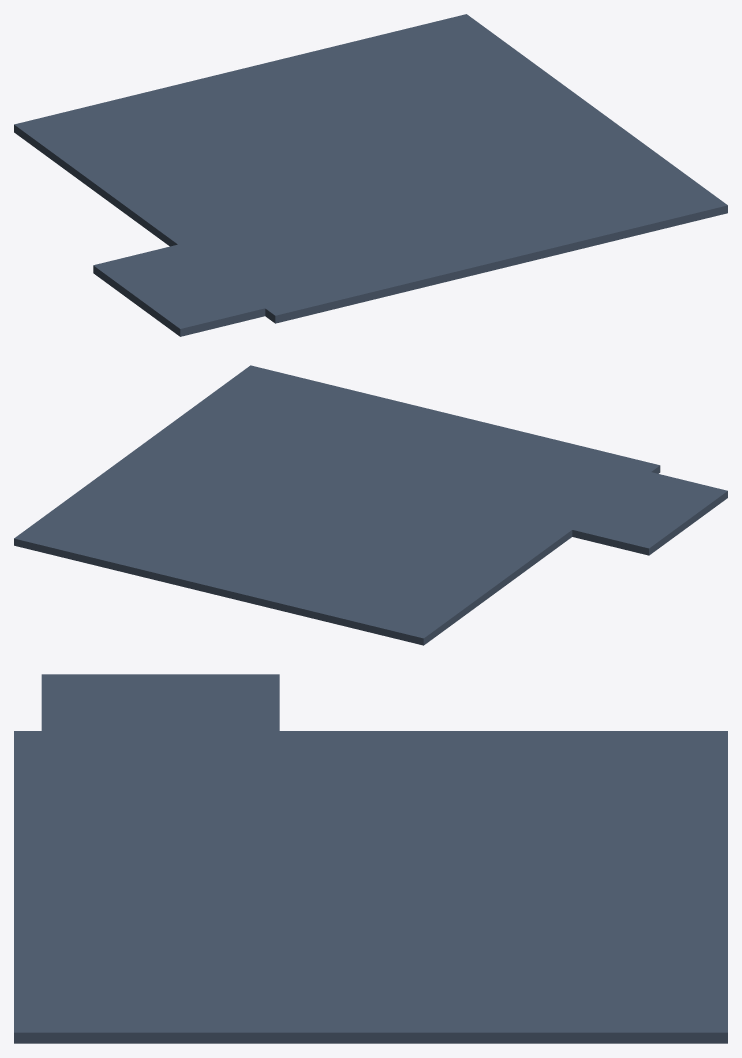
The model's file is floor_geometry.obj.
The picture shows the model from 3 angles, top to bottom: view 1: azimuth 30°, elevation 25°; view 2: azimuth 150°, elevation 25°; view 3: azimuth 270°, elevation 25°; orthographic projection. The views are drawn at different scales.
Visible parts, largest first — view 1: Floor_007_u_route_a_floor_ventilation, Floor_006_u_route_a_floor_store, Floor_001_u_route_a_floor_hall, Floor_003_u_route_a_floor_store, Floor_002_u_route_a_floor_hall, Floor_004_u_route_a_floor_store; view 2: Floor_007_u_route_a_floor_ventilation, Floor_006_u_route_a_floor_store, Floor_001_u_route_a_floor_hall, Floor_003_u_route_a_floor_store, Floor_002_u_route_a_floor_hall; view 3: Floor_007_u_route_a_floor_ventilation, Floor_006_u_route_a_floor_store, Floor_001_u_route_a_floor_hall, Floor_003_u_route_a_floor_store, Floor_002_u_route_a_floor_hall, Floor_004_u_route_a_floor_store.
Boxes of the visible parts, x1,y1,x2,y2 form: Floor_007_u_route_a_floor_ventilation: (240, 14, 727, 268); Floor_006_u_route_a_floor_store: (20, 69, 501, 322); Floor_001_u_route_a_floor_hall: (93, 246, 259, 336); Floor_003_u_route_a_floor_store: (14, 123, 183, 246); Floor_002_u_route_a_floor_hall: (173, 244, 265, 317); Floor_004_u_route_a_floor_store: (178, 243, 270, 308); Floor_007_u_route_a_floor_ventilation: (14, 365, 454, 595); Floor_006_u_route_a_floor_store: (219, 415, 654, 644); Floor_001_u_route_a_floor_hall: (577, 473, 727, 555); Floor_003_u_route_a_floor_store: (418, 528, 572, 645); Floor_002_u_route_a_floor_hall: (572, 472, 655, 537); Floor_007_u_route_a_floor_ventilation: (14, 882, 727, 1043); Floor_006_u_route_a_floor_store: (14, 734, 727, 881); Floor_001_u_route_a_floor_hall: (41, 674, 279, 727); Floor_003_u_route_a_floor_store: (279, 731, 727, 734); Floor_002_u_route_a_floor_hall: (41, 727, 279, 730); Floor_004_u_route_a_floor_store: (41, 731, 279, 734).
Size of the model in its own units: 14.25 by 0.2 by 12.
